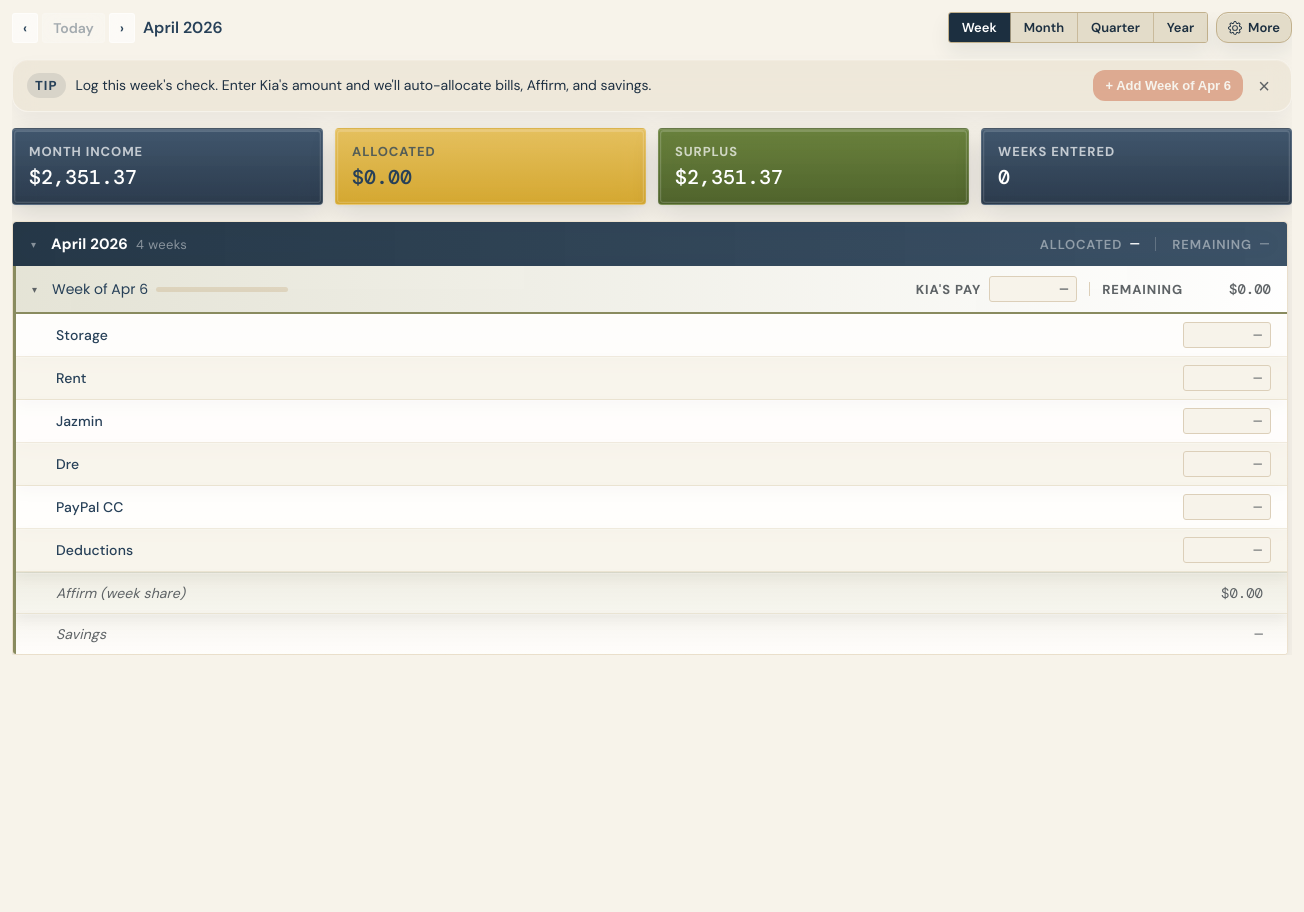
Scenario: PaycheckTab — navigation (weekly + today branches) › Today resets to current week in weekly view (lines 226-231)
Click the button named "Next week": (122, 28) x1=109 y1=12 x2=135 y2=42
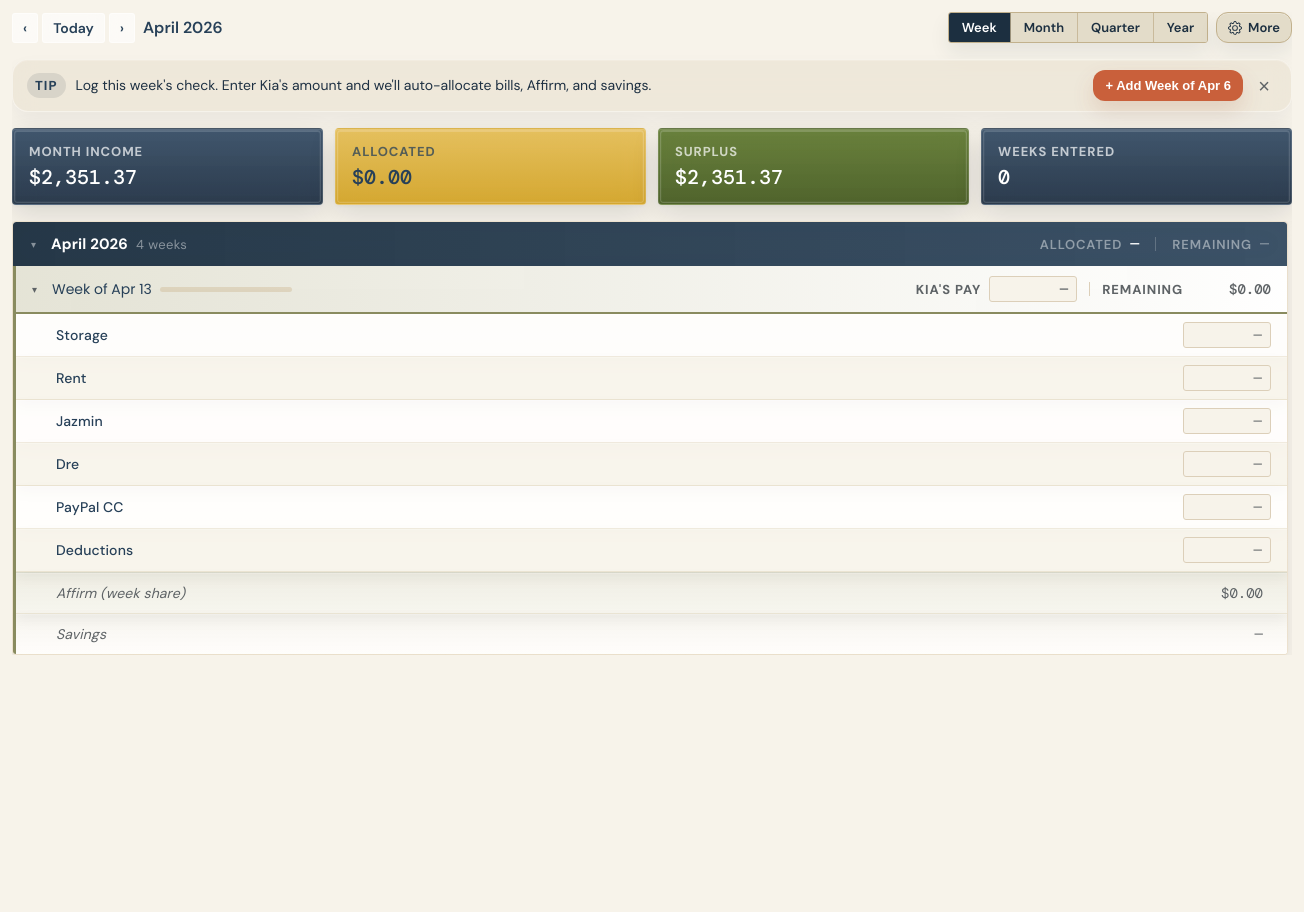
Click the button named "Next week": (122, 28) x1=109 y1=12 x2=135 y2=42
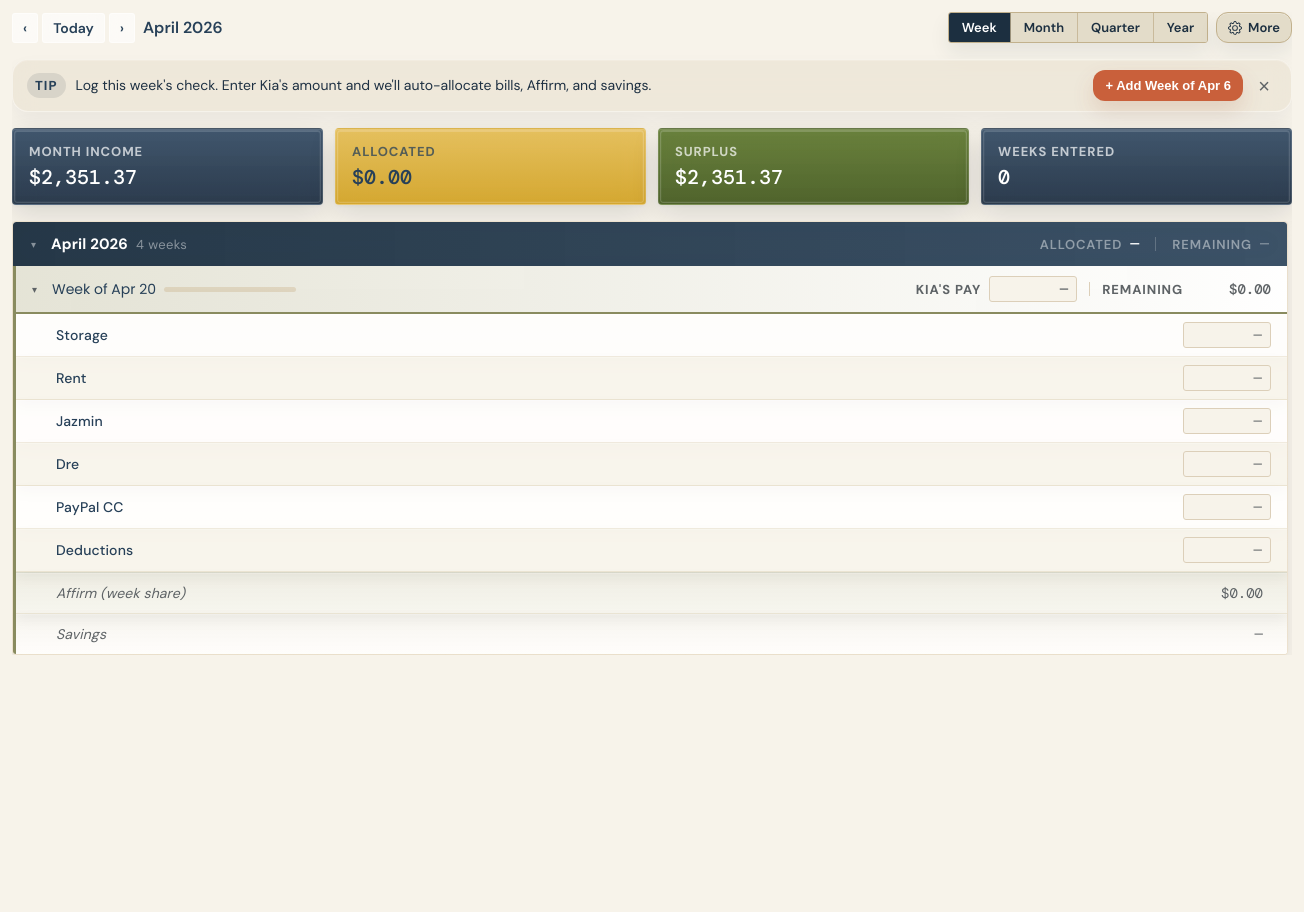
Click the button named "Next week": (122, 28) x1=109 y1=12 x2=135 y2=42
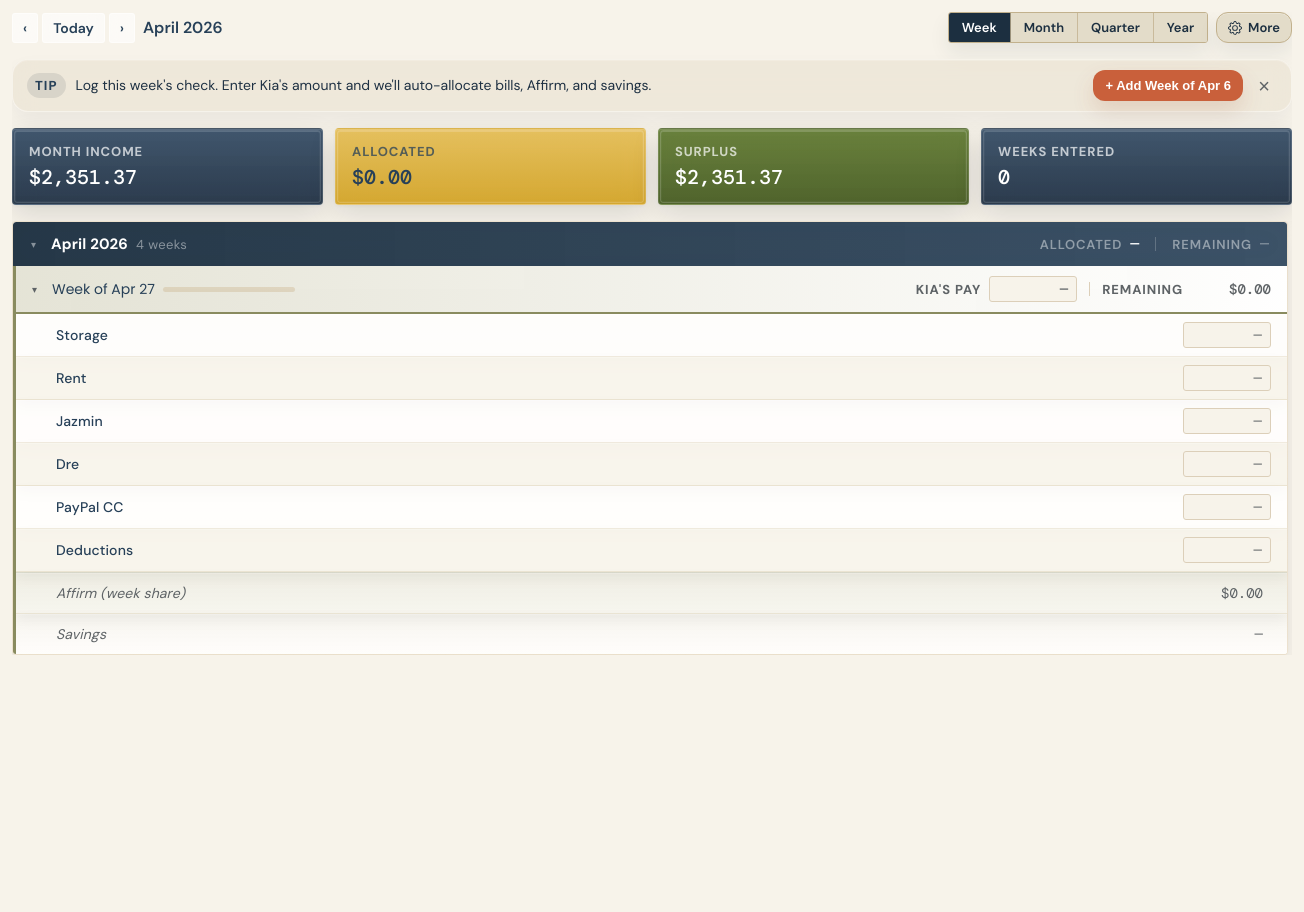
Click the button named "Next week": (122, 28) x1=109 y1=12 x2=135 y2=42
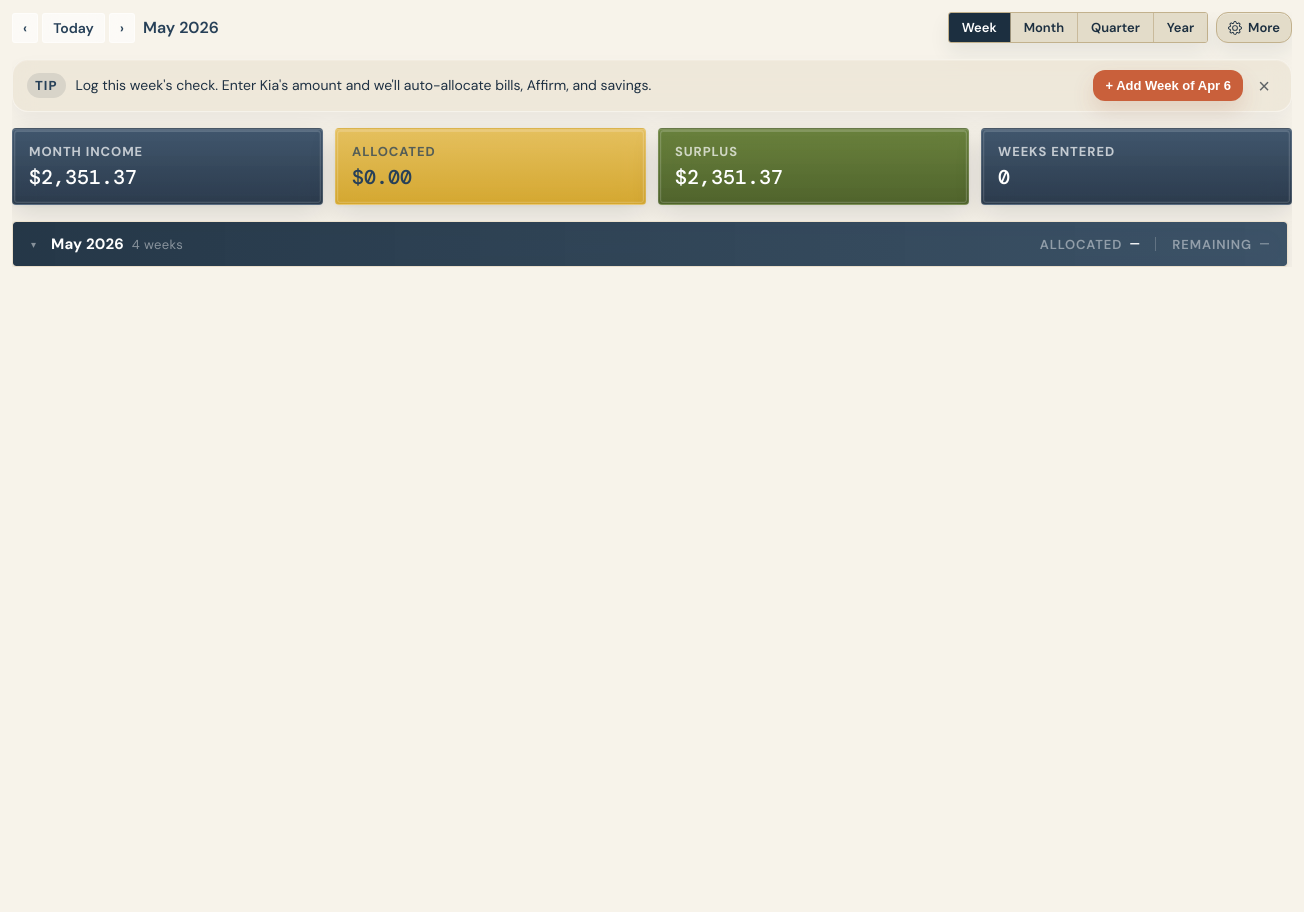
Click the button "Today": (73, 28) x1=42 y1=12 x2=105 y2=42
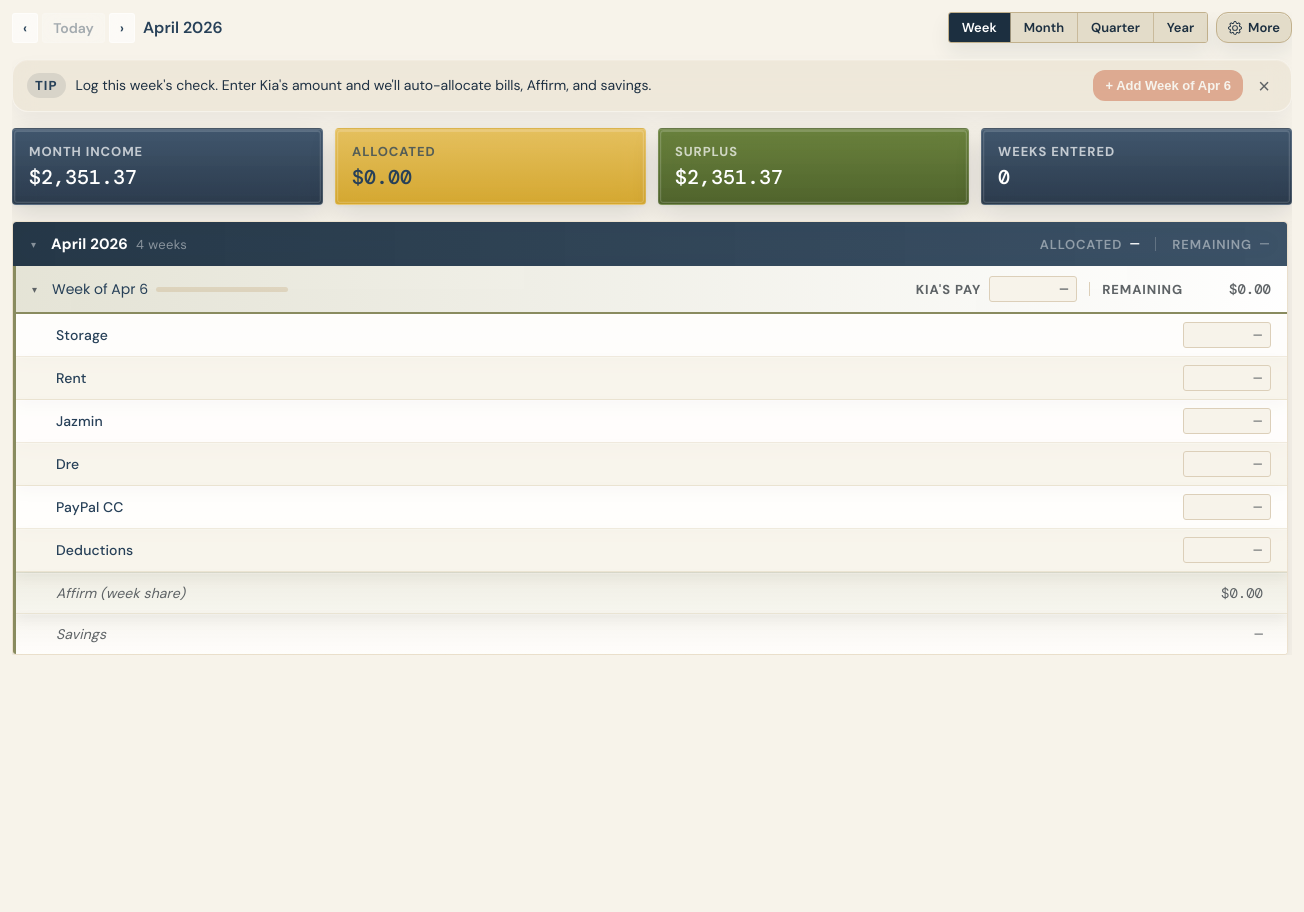
Now the heading "April 2026" is shown, box x1=143 y1=17 x2=223 y2=38
